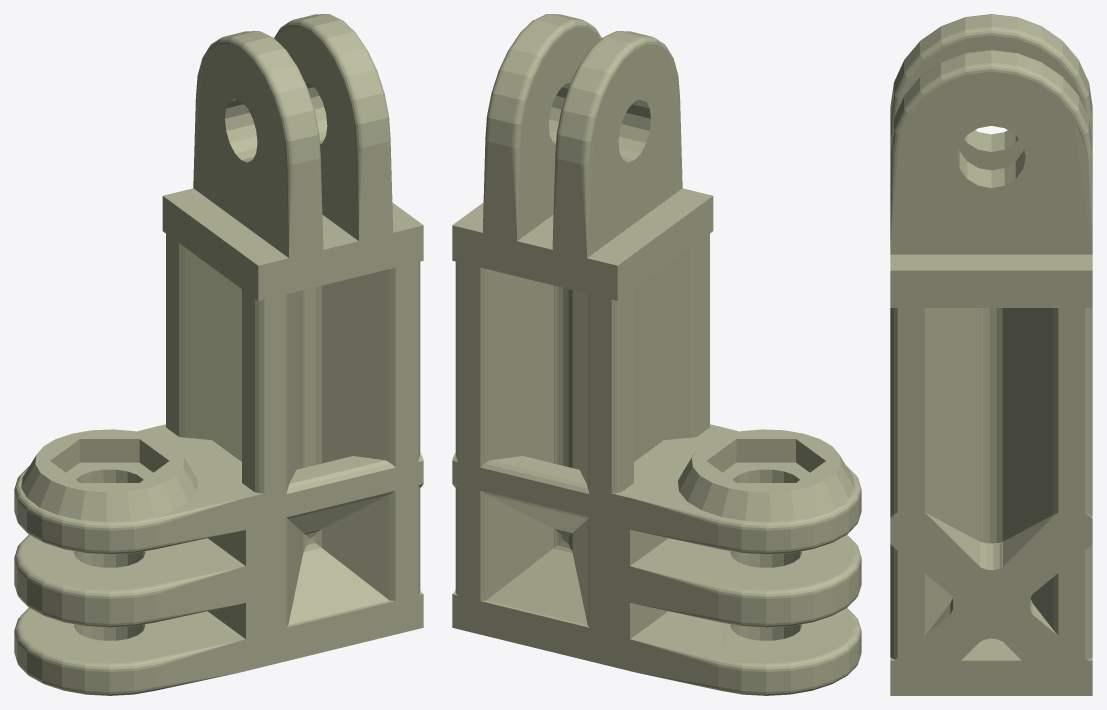
The model's file is tinker.obj.
The picture shows the model from 3 angles, left to right: view 1: azimuth 30°, elevation 25°; view 2: azimuth 150°, elevation 25°; view 3: azimuth 270°, elevation 25°; orthographic projection. The views are drawn at different scales.
Visible parts, largest first — view 1: obj_0; view 2: obj_0; view 3: obj_0.
Boxes of the visible parts, left/top/right/bottom form: obj_0: left=14, top=14, right=423, bottom=695; obj_0: left=452, top=14, right=861, bottom=695; obj_0: left=890, top=14, right=1092, bottom=695.
Bounding box in the file's own units: 31 × 49.35 × 14.7.
